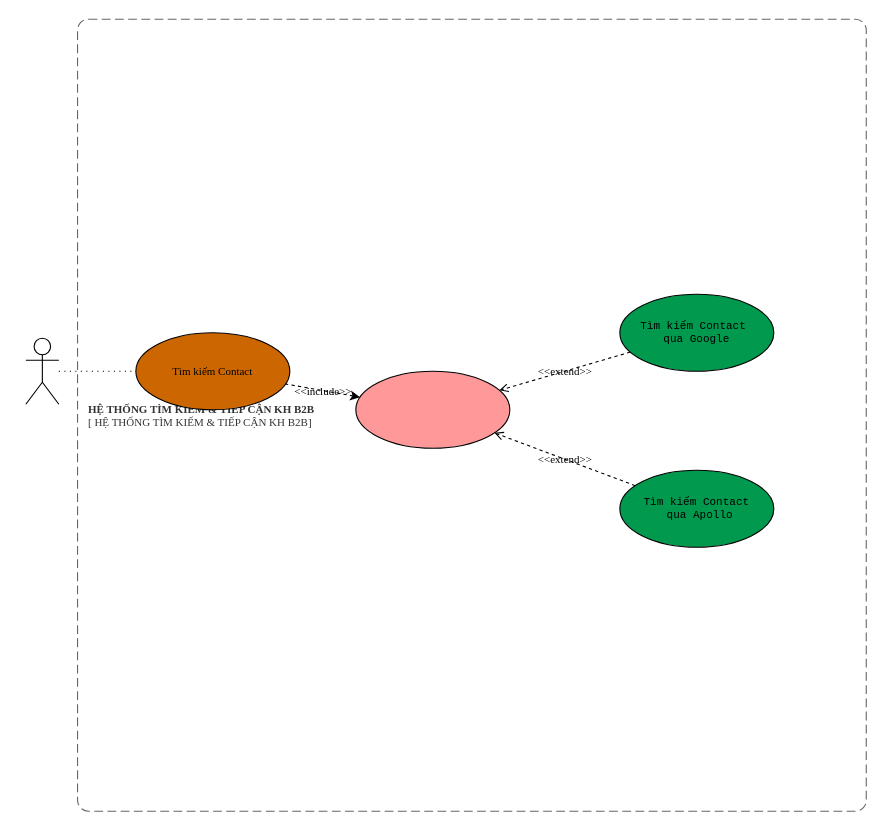
Some shapes in this 886 by 831 pixel diagram are drawn without their labels. Here are the shapes that lost their labels. From the top down, the box of each, then its label:
(25, 337, 59, 404): Nhân viên Marketing
(355, 370, 510, 448): Chọn phương thức tìm kiếm
